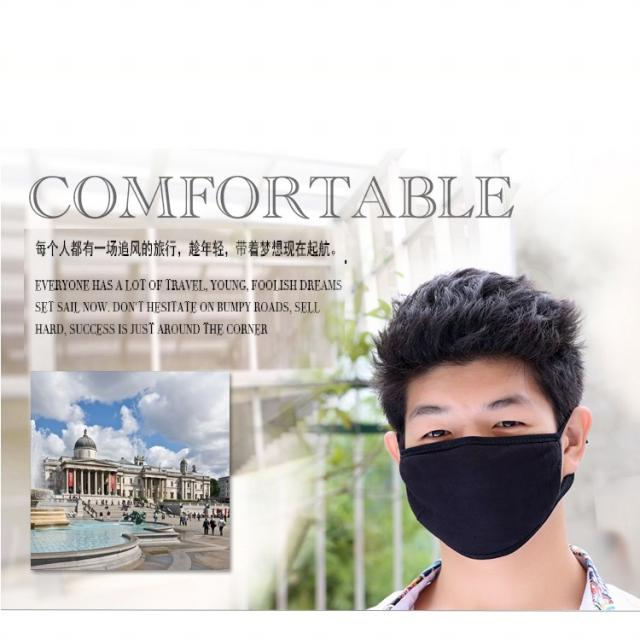mask: (401, 351, 562, 547)
